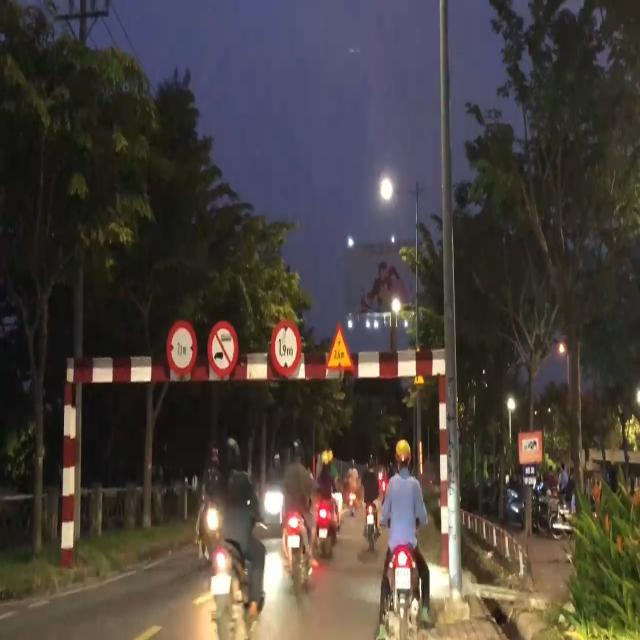Bien bao cam xe oto khach va xe oto tai: (203, 318, 241, 383)
Bien bao chieu cao tinh khong thuc te: (323, 316, 354, 375)
Bien bao han che chieu cao: (269, 317, 303, 382)
